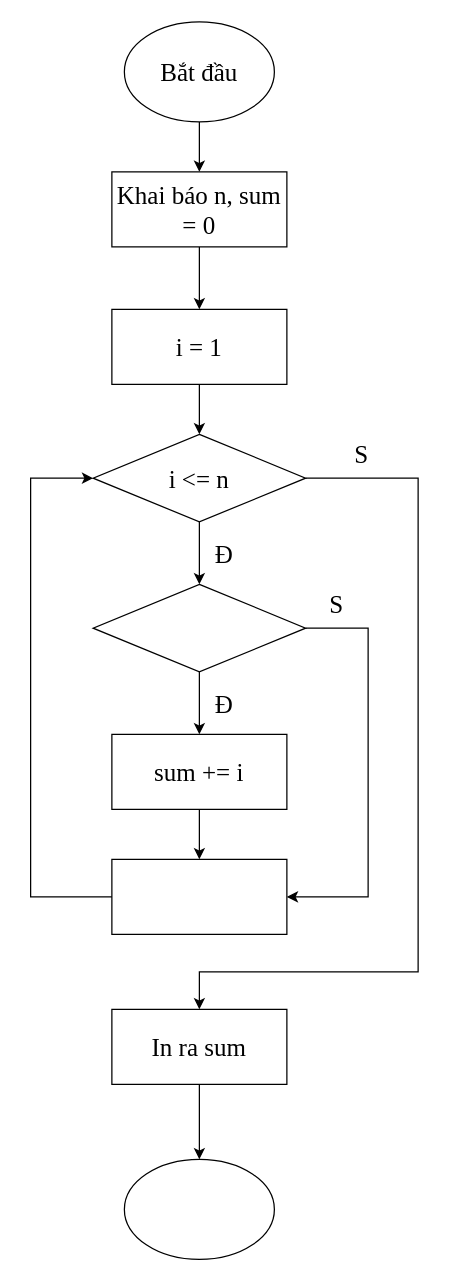
The diagram is 450 pixels wide and 1281 high, and some of its shapes have lost their labels. The centre of each missing label's shape, as x and y in pixels:
i % 2 == 0: the point at 199,627
i++: the point at 199,896
Kết thúc: the point at 198,1208
